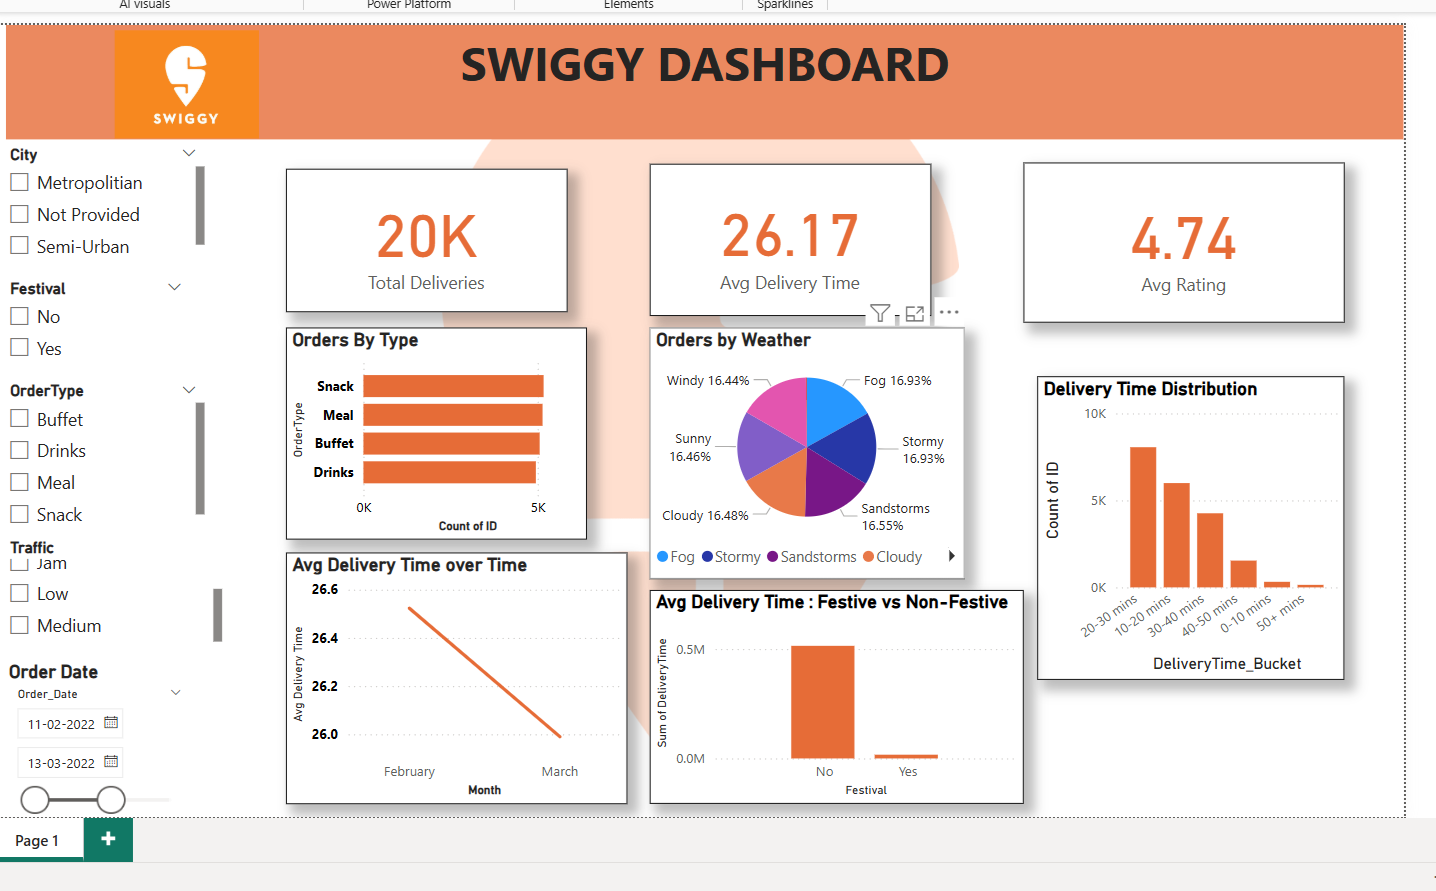

The dashboard page shown, as its layout file describes it:
{"tool":"powerbi","page":{"name":"Page 1","canvas":[1280,720],"ordinal":0},"visuals":[{"type":"textbox","box":[9.6,0,1270.7,104.3],"z":0},{"type":"card","fields":{"Values":["Zomato Dataset.Total Deliveries"]},"box":[263.6,130.7,255.7,130.7],"z":1000},{"type":"card","fields":{"Values":["Zomato Dataset.Avg Delivery Time"]},"box":[594.3,126.1,255.7,138.6],"z":2000},{"type":"card","fields":{"Values":["Zomato Dataset.Avg Rating"]},"box":[934.1,125,292,145.5],"z":3000},{"type":"clusteredBarChart","title":"Orders By Type","fields":{"Category":["Zomato Dataset.OrderType"],"Y":["CountNonNull(Zomato Dataset.ID)"]},"box":[263.6,275,273.9,193.2],"z":4000},{"type":"lineChart","title":"Avg Delivery Time over Time","fields":{"Category":["Zomato Dataset.Order_Date.Variation.Date Hierarchy.Month"],"Y":["Zomato Dataset.Avg Delivery Time"]},"box":[263.6,479.5,310.2,228.4],"z":5000},{"type":"pieChart","title":"Orders by Weather","fields":{"Y":["CountNonNull(Zomato Dataset.ID)"],"Category":["Zomato Dataset.Weather"]},"box":[594.3,275,286.4,228.4],"z":6000},{"type":"clusteredColumnChart","title":"Delivery Time Distribution","fields":{"Category":["Zomato Dataset.DeliveryTime_Bucket"],"Y":["CountNonNull(Zomato Dataset.ID)"]},"box":[946.6,319.3,279.5,276.1],"z":7000},{"type":"columnChart","title":"Avg Delivery Time : Festive vs  Non-Festive","fields":{"Category":["Zomato Dataset.Festival"],"Y":["Sum(Zomato Dataset.DeliveryTime)"]},"box":[594.3,513.6,339.8,194.3],"z":8000},{"type":"slicer","fields":{"Values":["Zomato Dataset.City"]},"box":[0,104,194.5,119.8],"z":9000},{"type":"slicer","fields":{"Values":["Zomato Dataset.OrderType"]},"box":[0,318.8,194.5,142.5],"z":10000},{"type":"slicer","fields":{"Values":["Zomato Dataset.Festival"]},"box":[0,226.7,181.3,86.7],"z":11000},{"type":"slicer","title":"Traffic","fields":{"Values":["Zomato Dataset.Traffic"]},"box":[0,461.3,210.3,104],"z":12000},{"type":"slicer","title":"Order Date","fields":{"Values":["Zomato Dataset.Order_Date"]},"box":[6.8,577.8,174.1,142.5],"z":13000},{"type":"image","box":[94.3,0,159.1,108],"z":13001}]}

Visuals, with their boxes in screenshot pixels (x1, y1, x2, y2):
textbox: 0:19:1405:134
card - Zomato Dataset.Total Deliveries: 280:163:563:308
card - Zomato Dataset.Avg Delivery Time: 646:158:929:312
card - Zomato Dataset.Avg Rating: 1022:157:1345:318
"Orders By Type" clusteredBarChart: 280:323:583:537
"Avg Delivery Time over Time" lineChart: 280:549:624:802
"Orders by Weather" pieChart: 646:323:963:576
"Delivery Time Distribution" clusteredColumnChart: 1036:372:1345:677
"Avg Delivery Time : Festive vs  Non-Festive" columnChart: 646:587:1022:802
slicer - Zomato Dataset.City: 0:134:204:266
slicer - Zomato Dataset.OrderType: 0:371:204:529
slicer - Zomato Dataset.Festival: 0:270:189:365
"Traffic" slicer: 0:529:221:644
"Order Date" slicer: 0:658:189:816
image: 93:19:269:138
